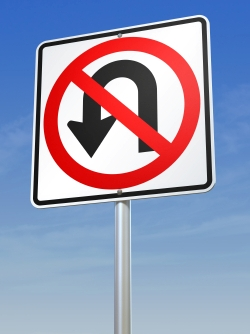No_u_turn: (42, 37, 200, 187)
